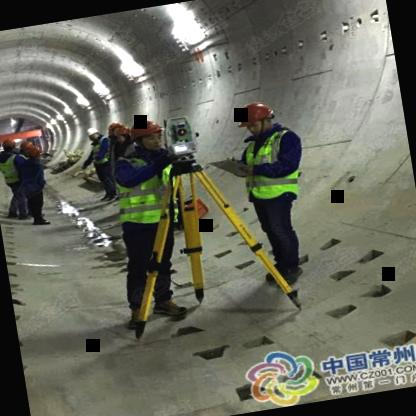helmet: (234, 96, 278, 134), (127, 115, 162, 150), (82, 124, 104, 144), (113, 126, 134, 146), (26, 145, 42, 162), (1, 136, 16, 154), (17, 140, 32, 154)
